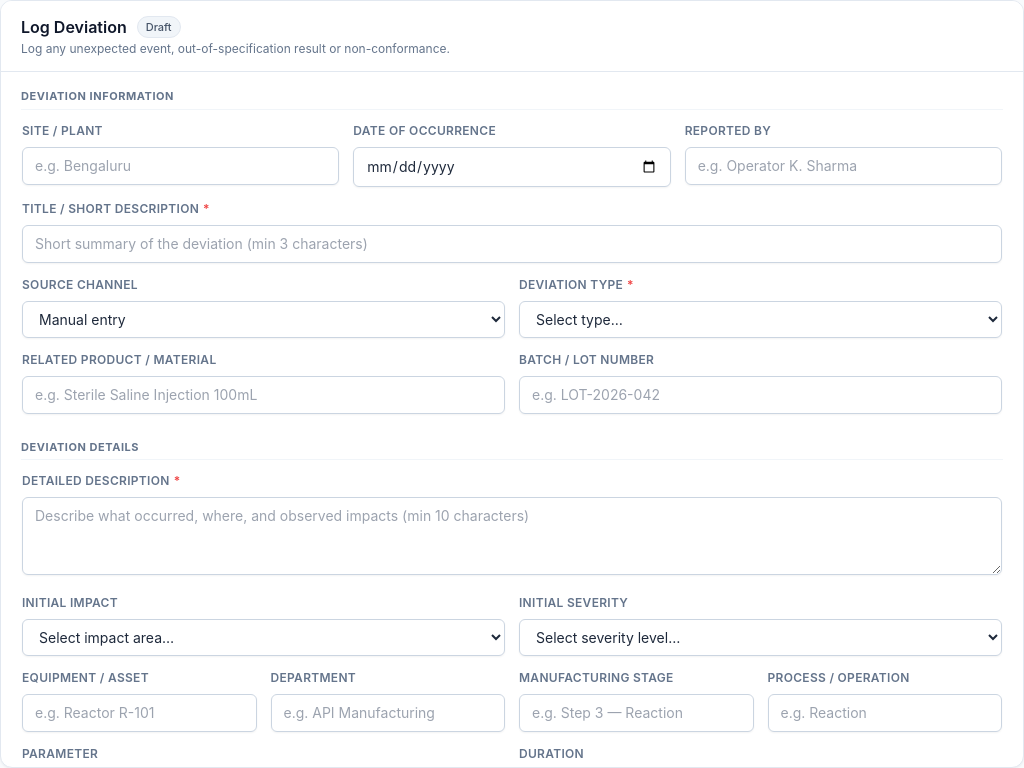
Test: LogDeviationForm - AIVOA Intake Workflow › 5. resets the form cleanly when Reset button is clicked
Type "Temporary Title" into the field labelled "Title / Short Description*" at point(512, 244), box [22,224,1002,262]
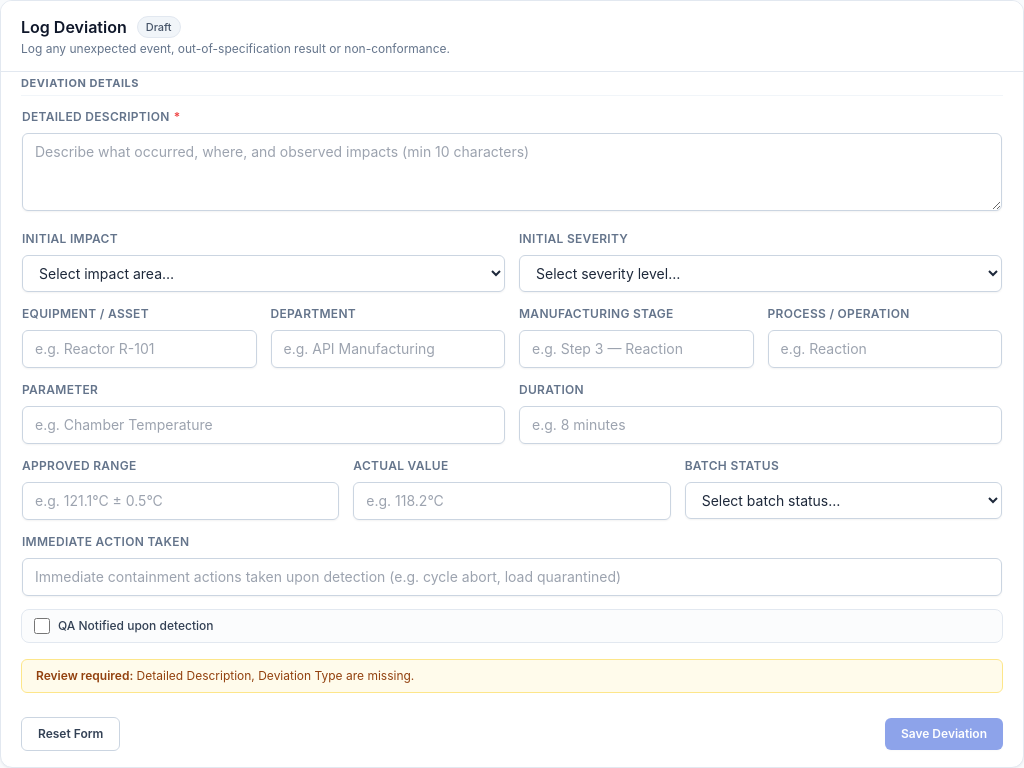
Click the button "Reset Form" at point(71, 734), box [21,717,120,751]
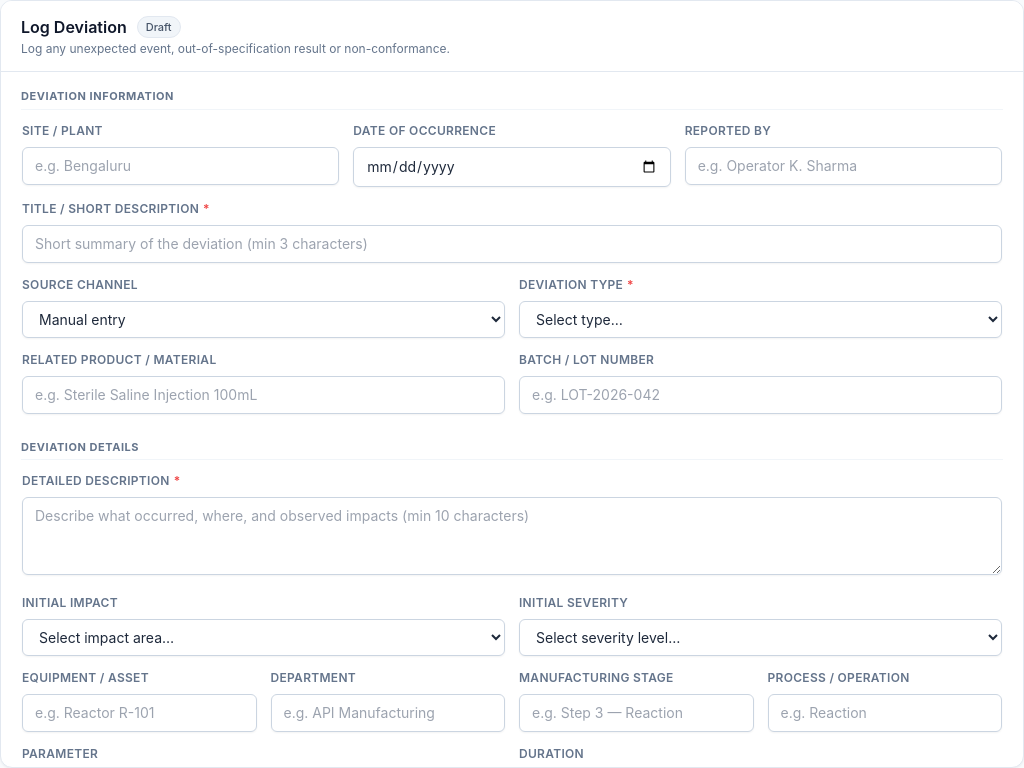
Expected: the field labelled "Title / Short Description*" is empty, [22,224,1002,262]
